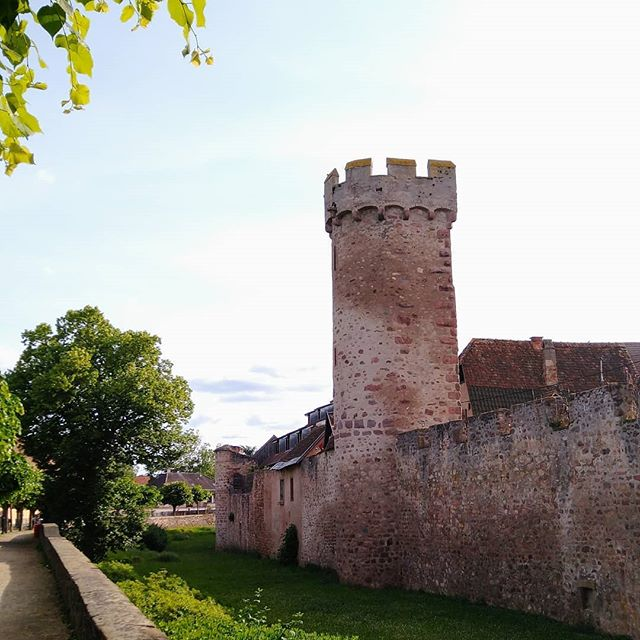building: (207, 151, 640, 623)
sky: (12, 1, 640, 325)
tree: (23, 317, 195, 555)
